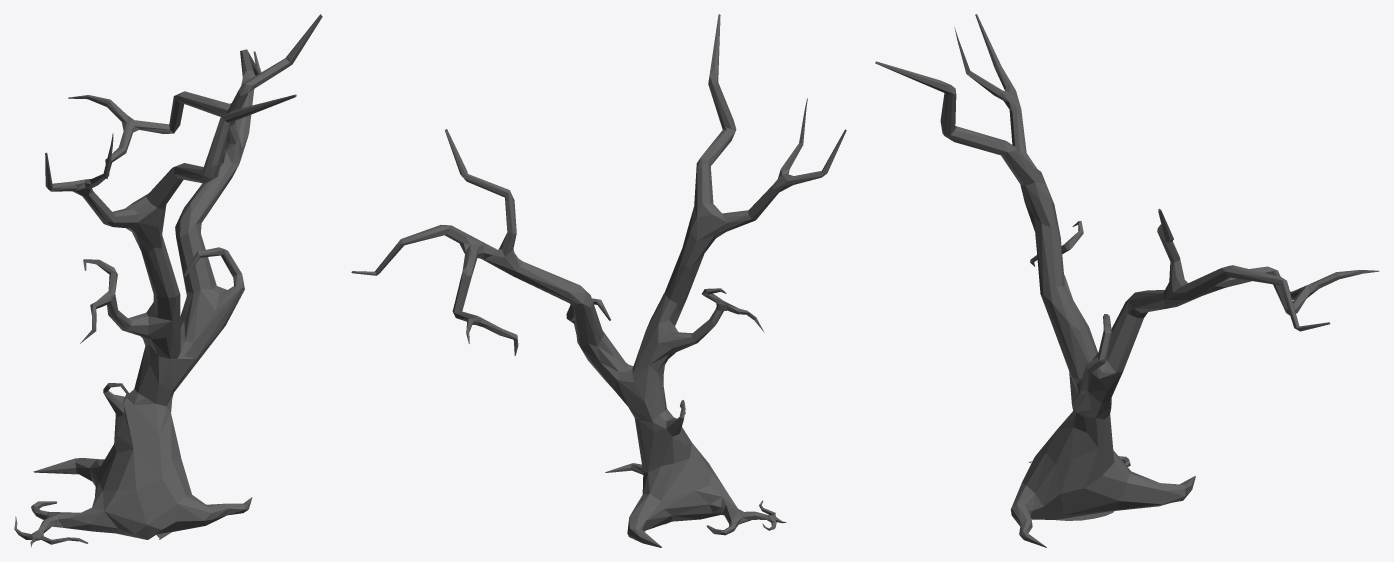
File: HWN20_Tree_09.gltf
3 views of the same model, side by side, from view 1: azimuth 30°, elevation 25°; view 2: azimuth 150°, elevation 25°; view 3: azimuth 270°, elevation 25° (orthographic). The views are drawn at different scales.
Parts seen in each view (by area): view 1: HWN20_Tree_09_glb; view 2: HWN20_Tree_09_glb; view 3: HWN20_Tree_09_glb.
Part boxes in pixels (left/top/right/bottom): HWN20_Tree_09_glb: left=14, top=14, right=322, bottom=547; HWN20_Tree_09_glb: left=351, top=14, right=846, bottom=547; HWN20_Tree_09_glb: left=875, top=14, right=1379, bottom=547.
Size of what is drawn, in the model's own units: 5.27 by 6.26 by 6.04.
1 material, 1 textured.
